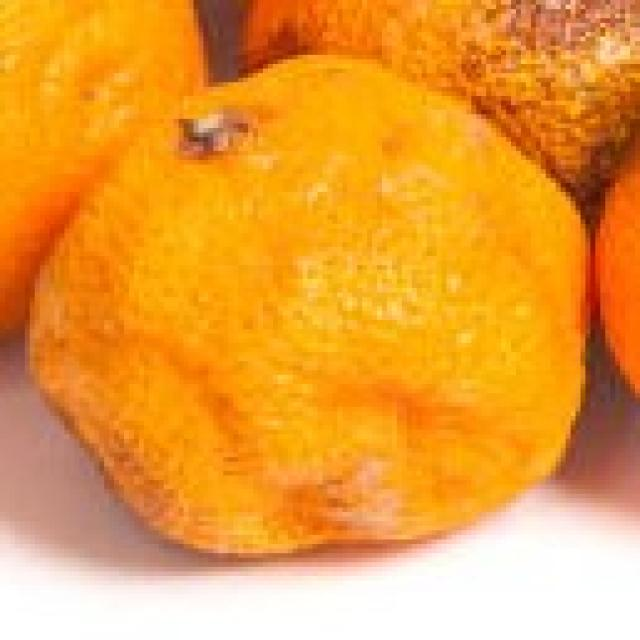overripe: (18, 49, 599, 564)
